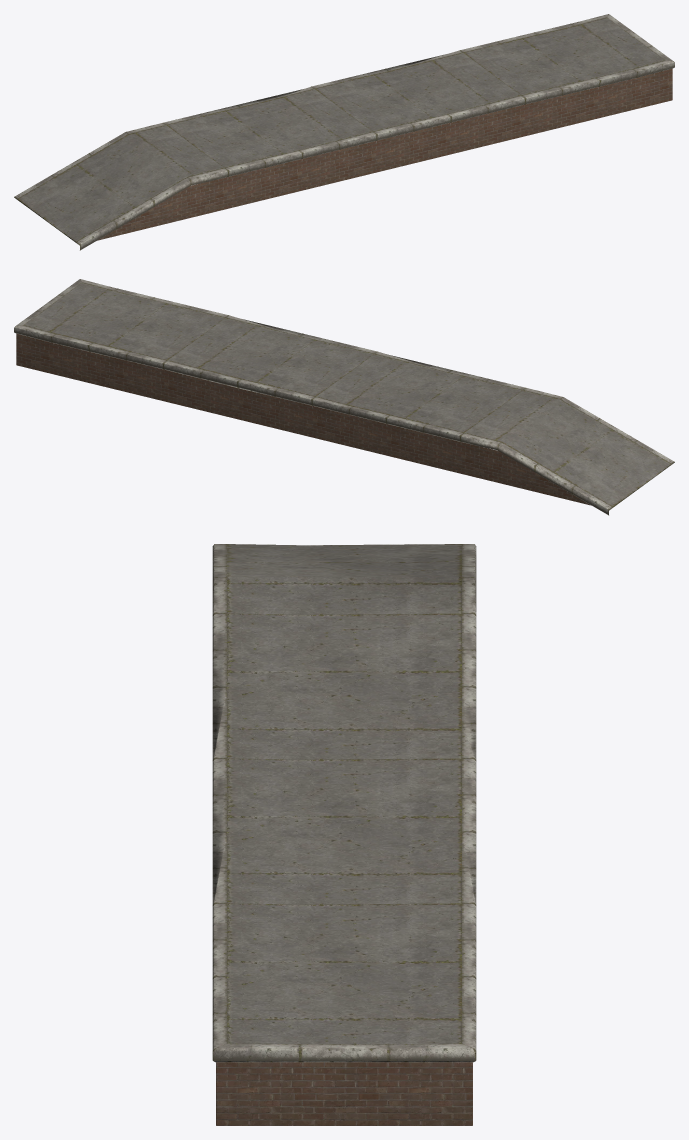
File: loading_platform_a.glb
The picture shows the model from 3 angles, top to bottom: view 1: azimuth 30°, elevation 25°; view 2: azimuth 150°, elevation 25°; view 3: azimuth 270°, elevation 25°; orthographic projection. The views are drawn at different scales.
Parts seen in each view (by area): view 1: loading_platform_a; view 2: loading_platform_a; view 3: loading_platform_a.
Part boxes in pixels (bbox=[...]): loading_platform_a: bbox=[14, 14, 674, 250]; loading_platform_a: bbox=[14, 279, 674, 515]; loading_platform_a: bbox=[212, 544, 476, 1125].
Size of the model in its own units: 24.05 by 1.71 by 4.61.
Materials: 2 (2 with a texture image).
